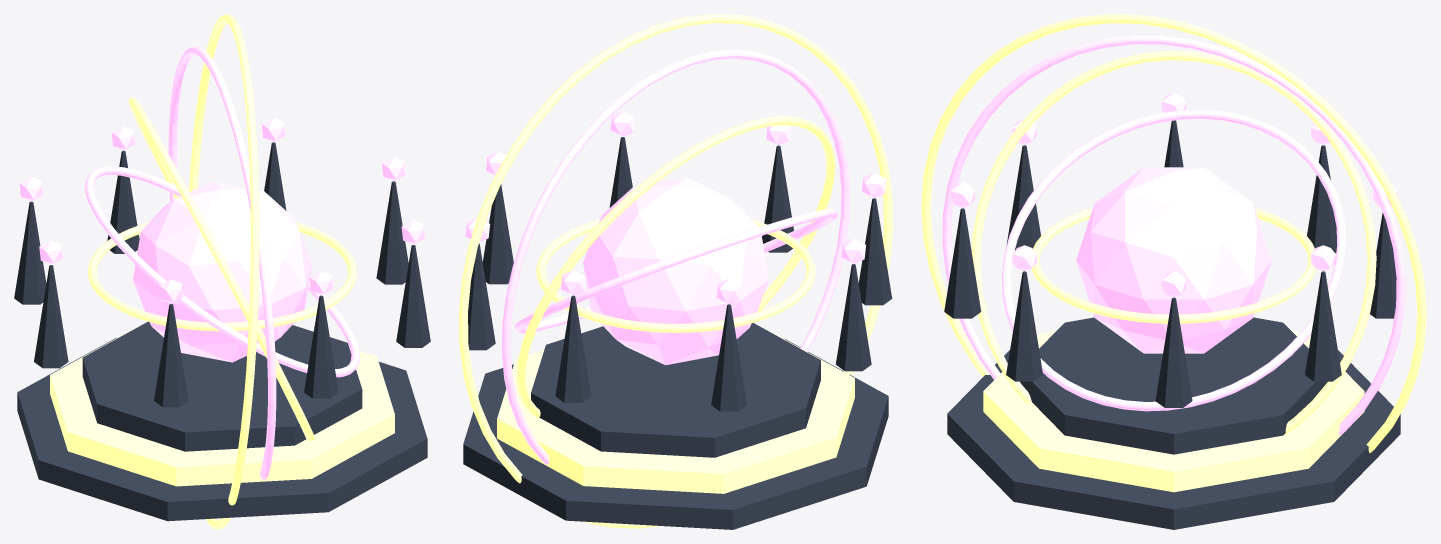
The model's file is gpu-blender-v35.glb.
3 views of the same model, side by side, from view 1: azimuth 30°, elevation 25°; view 2: azimuth 150°, elevation 25°; view 3: azimuth 270°, elevation 25° (orthographic). The views are drawn at different scales.
Visible parts, largest first — view 1: Cylinder.002, Cylinder, SovereignCore_storefront-catalog, Cylinder.001, Torus.004, Torus.003, Torus.001, Torus.002, Torus, Cone.005, Cone.004, Cone.006 (+5 smaller); view 2: Cylinder.002, SovereignCore_storefront-catalog, Cylinder, Cylinder.001, Torus.004, Torus.003, Torus.002, Torus.001, Torus, Cone.004, Cone.003, Cone.002 (+5 smaller); view 3: SovereignCore_storefront-catalog, Cylinder.002, Cylinder, Cylinder.001, Torus.004, Torus.003, Torus.002, Torus.001, Torus, Cone.006, Cone.001, Cone.007 (+5 smaller).
Part boxes in pixels (left/top/right/bottom): Cylinder.002: left=82, top=321, right=362, bottom=451; Cylinder: left=17, top=337, right=427, bottom=521; SovereignCore_storefront-catalog: left=133, top=181, right=311, bottom=362; Cylinder.001: left=50, top=329, right=394, bottom=486; Torus.004: left=189, top=14, right=259, bottom=529; Torus.003: left=168, top=46, right=276, bottom=479; Torus.001: left=85, top=166, right=359, bottom=377; Torus.002: left=129, top=98, right=314, bottom=440; Torus: left=88, top=222, right=356, bottom=331; Cone.005: left=154, top=304, right=188, bottom=407; Cone.004: left=34, top=265, right=68, bottom=368; Cone.006: left=304, top=295, right=338, bottom=398; Cylinder.002: left=531, top=323, right=820, bottom=457; SovereignCore_storefront-catalog: left=583, top=177, right=768, bottom=365; Cylinder: left=463, top=339, right=888, bottom=529; Cylinder.001: left=497, top=330, right=854, bottom=493; Torus.004: left=459, top=14, right=892, bottom=528; Torus.003: left=501, top=49, right=850, bottom=464; Torus.002: left=516, top=116, right=835, bottom=418; Torus.001: left=514, top=209, right=837, bottom=333; Torus: left=536, top=219, right=815, bottom=332; Cone.004: left=835, top=264, right=871, bottom=371; Cone.003: left=711, top=304, right=746, bottom=411; Cone.002: left=555, top=295, right=591, bottom=402; SovereignCore_storefront-catalog: left=1076, top=167, right=1271, bottom=353; Cylinder.002: left=1020, top=317, right=1327, bottom=454; Cylinder: left=947, top=350, right=1400, bottom=529; Cylinder.001: left=983, top=331, right=1364, bottom=492; Torus.004: left=921, top=14, right=1426, bottom=452; Torus.003: left=942, top=35, right=1405, bottom=435; Torus.002: left=972, top=50, right=1376, bottom=434; Torus.001: left=1001, top=109, right=1346, bottom=411; Torus: left=1031, top=208, right=1316, bottom=323; Cone.006: left=944, top=208, right=981, bottom=318; Cone.001: left=1305, top=271, right=1341, bottom=381; Cone.007: left=1006, top=271, right=1042, bottom=381.
Bounding box in the file's own units: 4.41 × 5.33 × 4.9.
